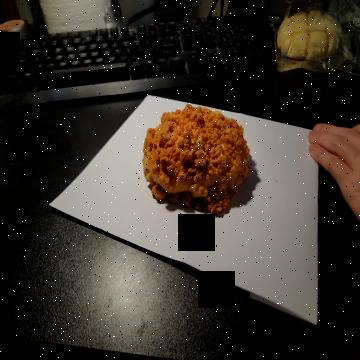soboru_bread: (139, 103, 252, 215)
